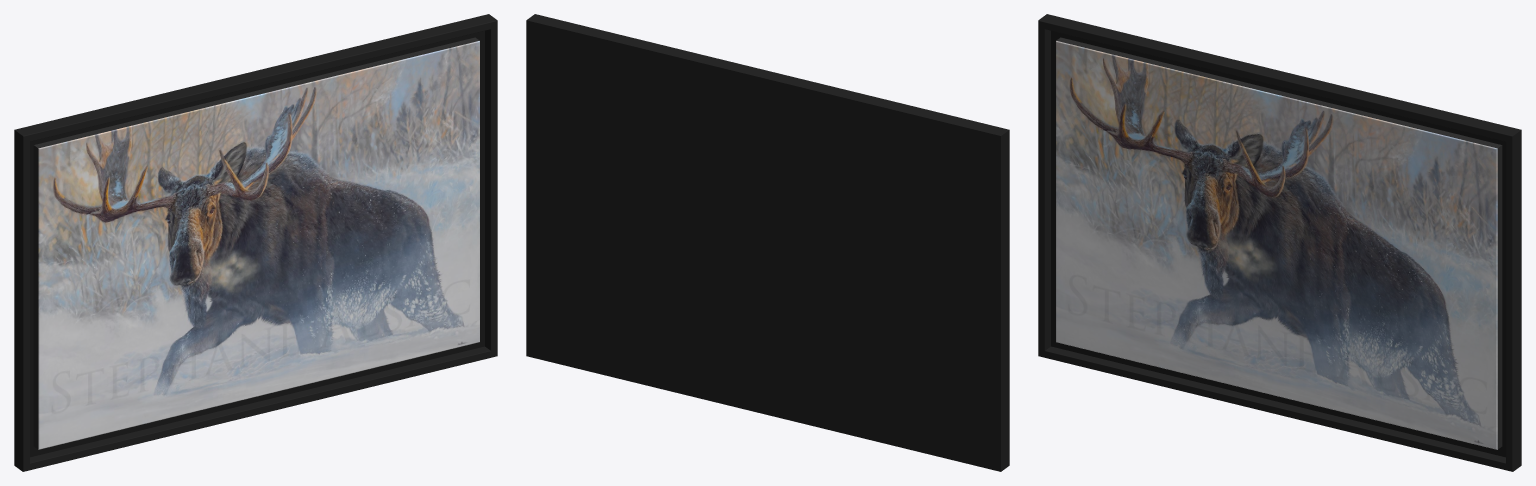
Rendered from tableau-elan-orignal-grand-fd1835e3.glb.
The picture shows the model from 3 angles, left to right: view 1: azimuth 30°, elevation 25°; view 2: azimuth 150°, elevation 25°; view 3: azimuth 330°, elevation 25°; orthographic projection.
Visible parts, largest first — view 1: Painting; view 2: Painting; view 3: Painting.
Boxes of the visible parts, x1=… form: Painting: x1=14, y1=14, x2=497, y2=471; Painting: x1=526, y1=14, x2=1009, y2=471; Painting: x1=1038, y1=14, x2=1521, y2=471.
Size of the model in its own units: 1.24 by 0.836 by 0.04.
Materials: 4 (2 with a texture image).
